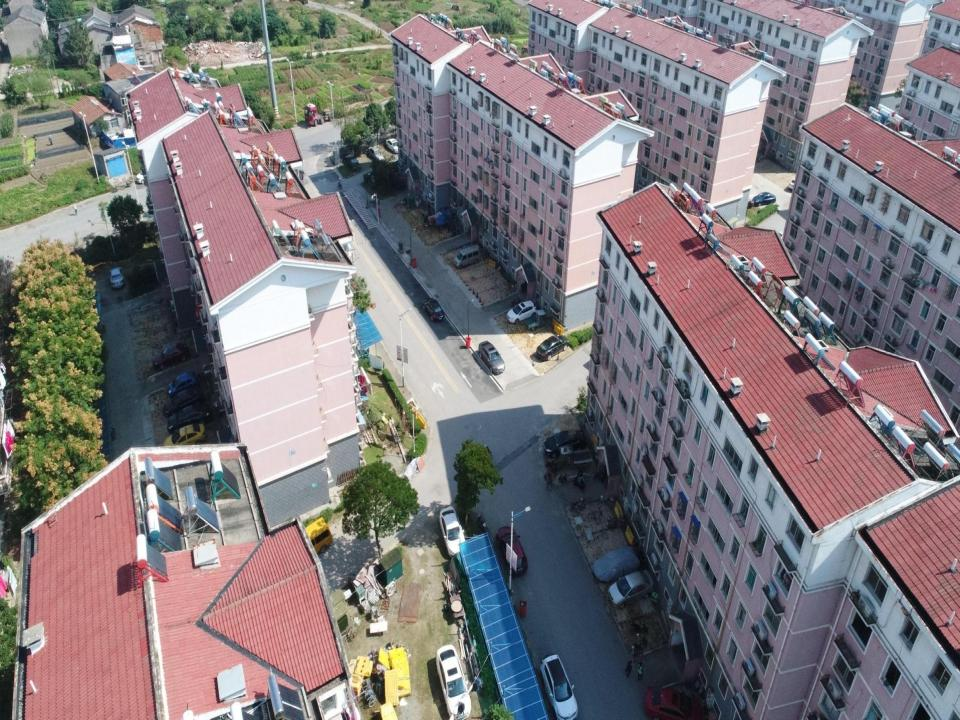car: (436, 644, 471, 719), (539, 654, 578, 720), (608, 570, 654, 608), (593, 545, 639, 582), (497, 526, 528, 575), (439, 505, 467, 559), (543, 429, 588, 459), (162, 423, 207, 452), (168, 403, 213, 432), (163, 388, 206, 416), (152, 342, 190, 371), (534, 334, 569, 361), (478, 340, 505, 375), (506, 299, 537, 325), (169, 372, 199, 398), (420, 294, 446, 321), (752, 192, 777, 208), (109, 267, 125, 290), (369, 146, 384, 165), (346, 153, 360, 172), (385, 138, 399, 154), (788, 178, 796, 189)
truck: (304, 103, 342, 126)
van: (304, 517, 333, 553), (452, 246, 480, 270)
